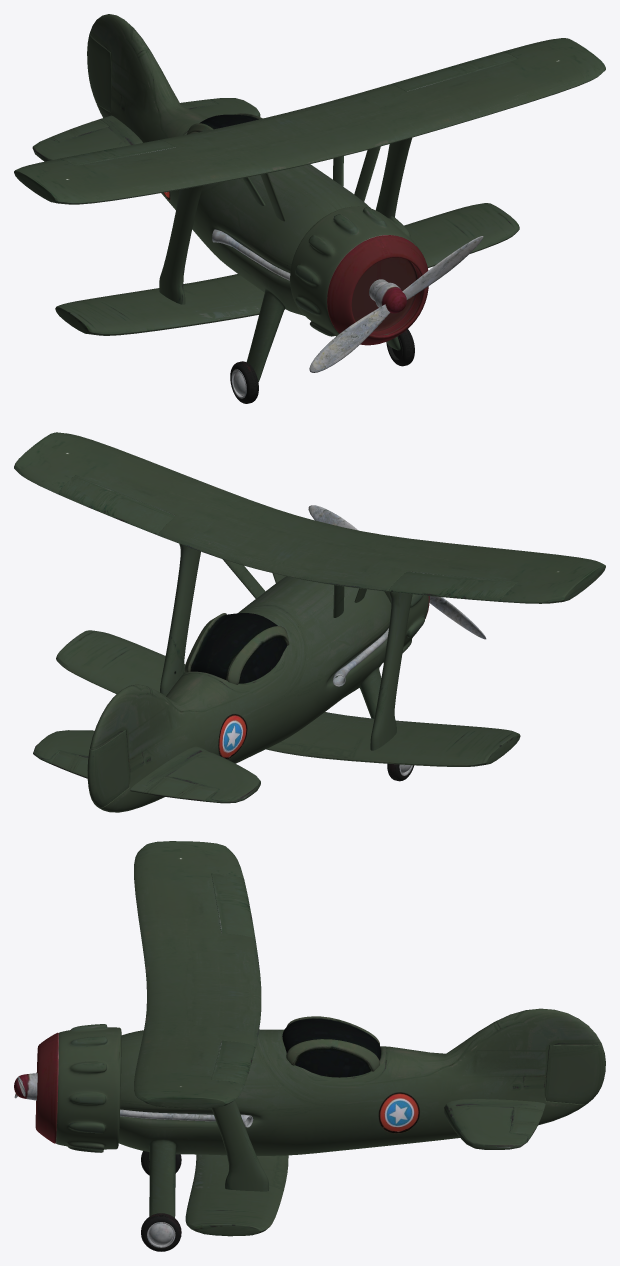
The picture shows the model from 3 angles, top to bottom: view 1: azimuth 30°, elevation 25°; view 2: azimuth 150°, elevation 25°; view 3: azimuth 270°, elevation 25°; orthographic projection. The views are drawn at different scales.
Visible parts, largest first — view 1: avio_body.001, avio_Helix.001; view 2: avio_body.001, avio_Helix.001; view 3: avio_body.001, avio_Helix.001.
Boxes of the visible parts, x1,y1,x2,y2 form: avio_body.001: [14, 14, 605, 403]; avio_Helix.001: [309, 236, 483, 372]; avio_body.001: [14, 432, 605, 812]; avio_Helix.001: [308, 505, 486, 639]; avio_body.001: [35, 841, 605, 1251]; avio_Helix.001: [14, 1073, 37, 1100].
Size of the model in its own units: 8.97 by 4.05 by 8.81.
1 material, 1 textured.
